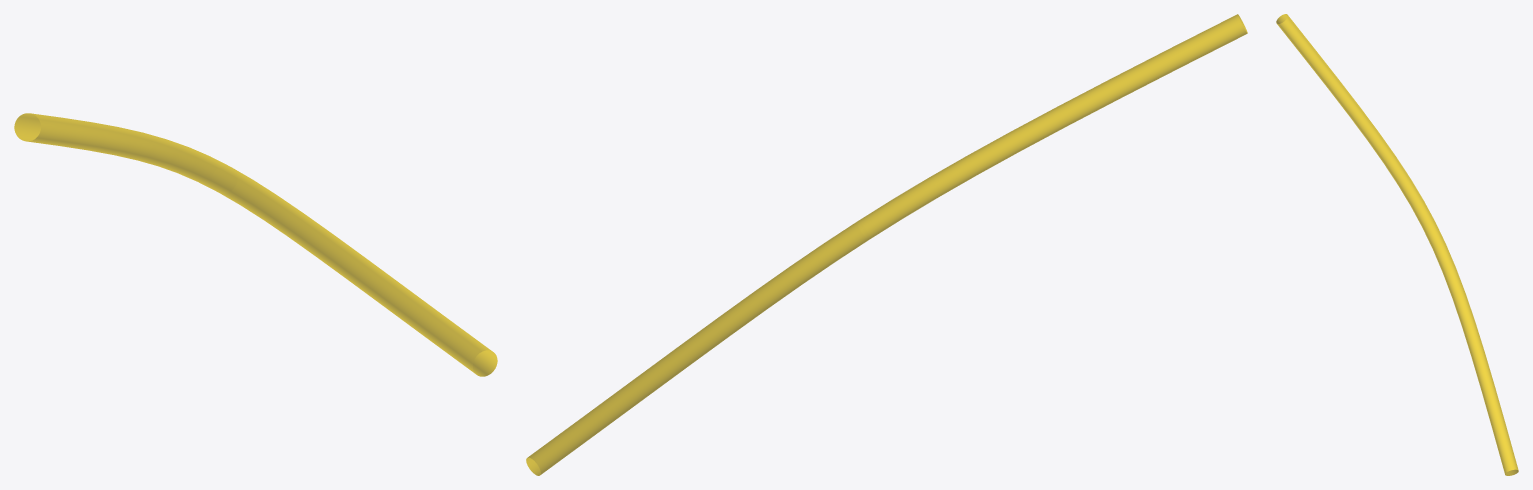
The model's file is Event_40932208_track_46.fbx.
The picture shows the model from 3 angles, left to right: view 1: azimuth 30°, elevation 25°; view 2: azimuth 150°, elevation 25°; view 3: azimuth 270°, elevation 25°; orthographic projection. The views are drawn at different scales.
Visible parts, largest first — view 1: Model; view 2: Model; view 3: Model.
Boxes of the visible parts, x1,y1,x2,y2 form: Model: [14, 113, 497, 376]; Model: [526, 14, 1247, 475]; Model: [1276, 14, 1518, 475].
Size of the model in its own units: 1.14 by 0.9201 by 0.6818.
